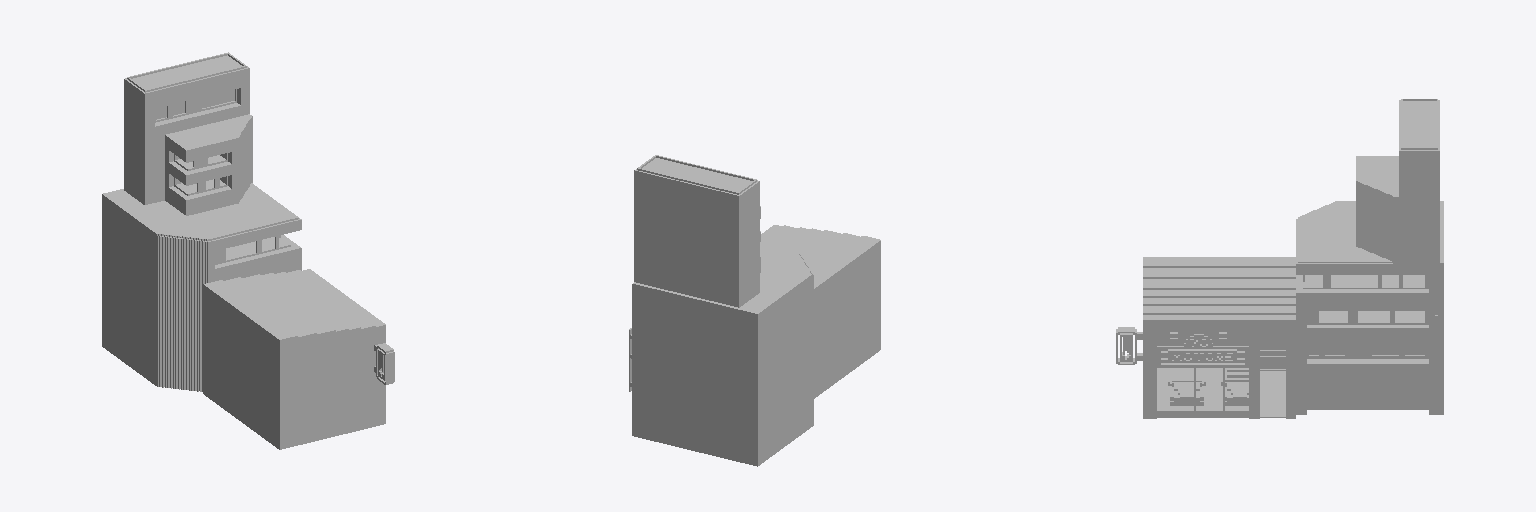
File: SideBuildings1-6.obj
The picture shows the model from 3 angles: view 1: azimuth 30°, elevation 25°; view 2: azimuth 150°, elevation 25°; view 3: azimuth 270°, elevation 25°; orthographic projection.
Parts seen in each view (by area): view 1: object 1; view 2: object 1; view 3: object 1.
Part boxes in pixels (x1,y1,x2,y2): object 1: (102,52,394,449); object 1: (629,155,880,466); object 1: (1116,99,1443,418).
Bounding box in the file's own units: 8.5 × 15 × 16.8.